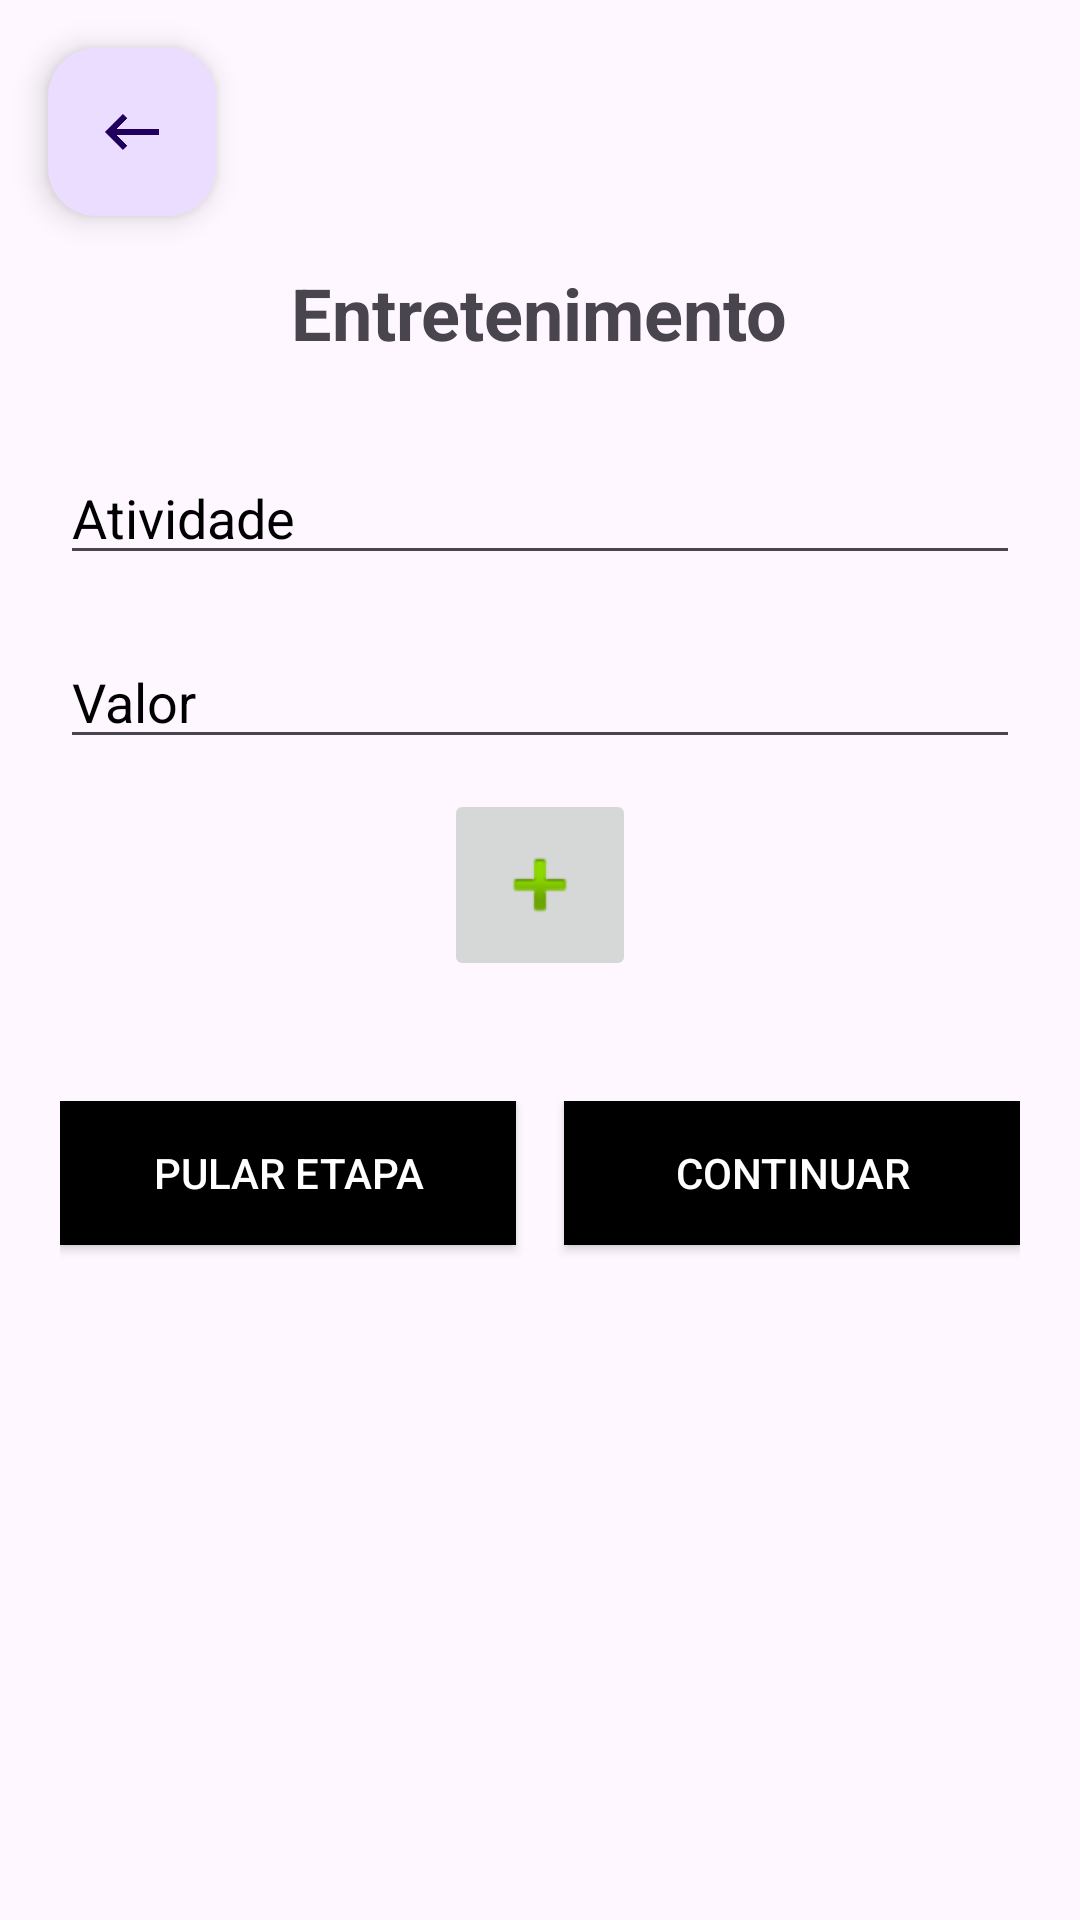

Locate icon controls on the screen. Image size 1080×1920, boxes as (x1, y1, x2, y2).
Adicionar atividade: (456, 807, 624, 963)
back arrow: (48, 48, 216, 216)
